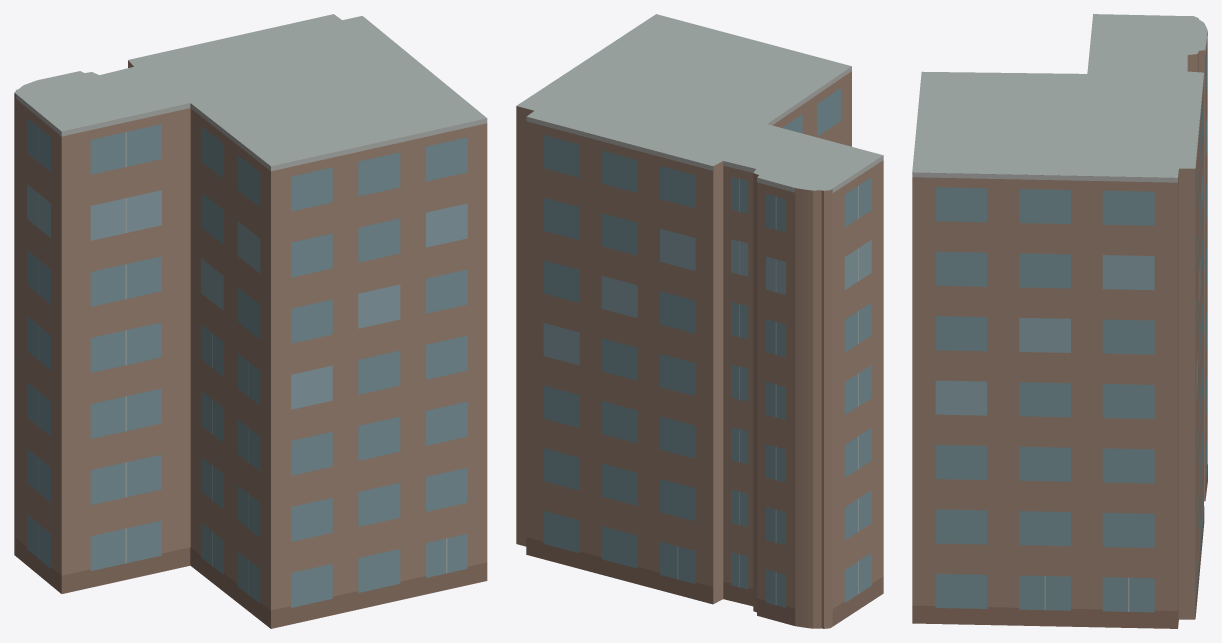
File: survey-upis-32689597.glb
3 renders of one model, left to right at view 1: azimuth 30°, elevation 25°; view 2: azimuth 150°, elevation 25°; view 3: azimuth 270°, elevation 25°, orthographic. The views are drawn at different scales.
Parts seen in each view (by area): view 1: survey-upis-32689597.tmp; view 2: survey-upis-32689597.tmp; view 3: survey-upis-32689597.tmp.
Part boxes in pixels (<box>): survey-upis-32689597.tmp: <box>14,14,487,628</box>; survey-upis-32689597.tmp: <box>516,14,883,628</box>; survey-upis-32689597.tmp: <box>912,14,1207,628</box>.
Size of the model in its own units: 17.81 by 22.85 by 13.58.
